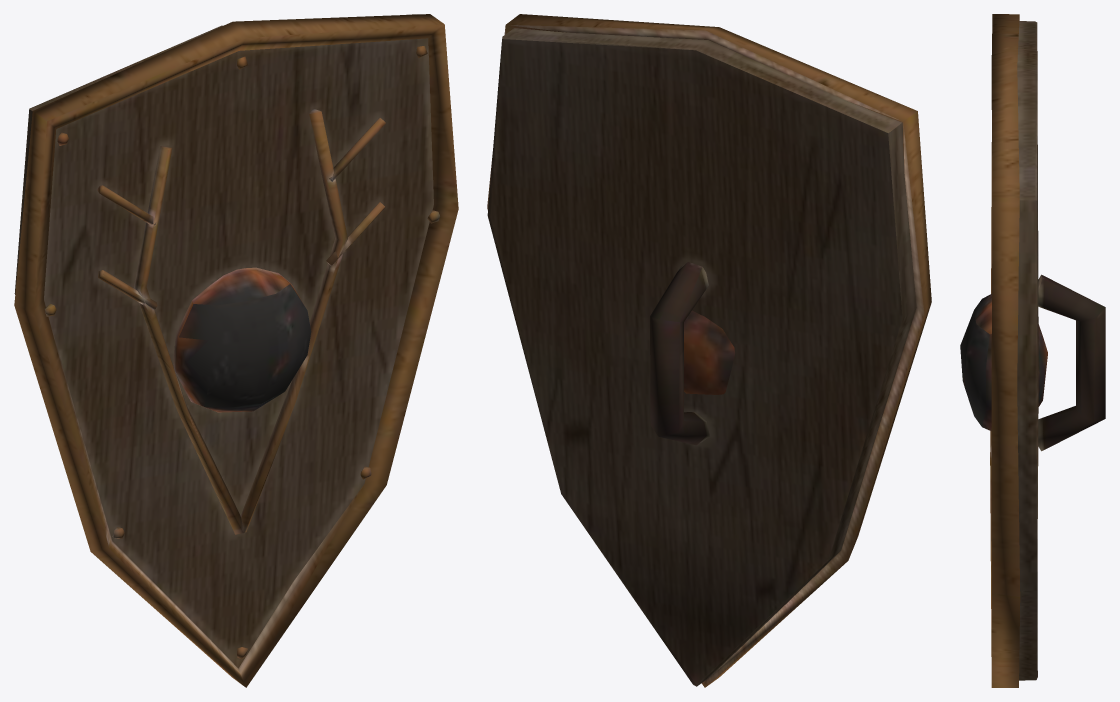
File: eq_shield_2_lod1.glb
The picture shows the model from 3 angles, left to right: view 1: azimuth 30°, elevation 25°; view 2: azimuth 150°, elevation 25°; view 3: azimuth 270°, elevation 25°; orthographic projection. The views are drawn at different scales.
Parts seen in each view (by area): view 1: eq_shield_2_lod1; view 2: eq_shield_2_lod1; view 3: eq_shield_2_lod1.
Part boxes in pixels (x1=…): eq_shield_2_lod1: x1=14, y1=14, x2=458, y2=687; eq_shield_2_lod1: x1=487, y1=14, x2=931, y2=687; eq_shield_2_lod1: x1=960, y1=14, x2=1105, y2=687.
Size of the model in its own units: 0.65 by 0.9328 by 0.198.
Materials: 1 (1 with a texture image).
